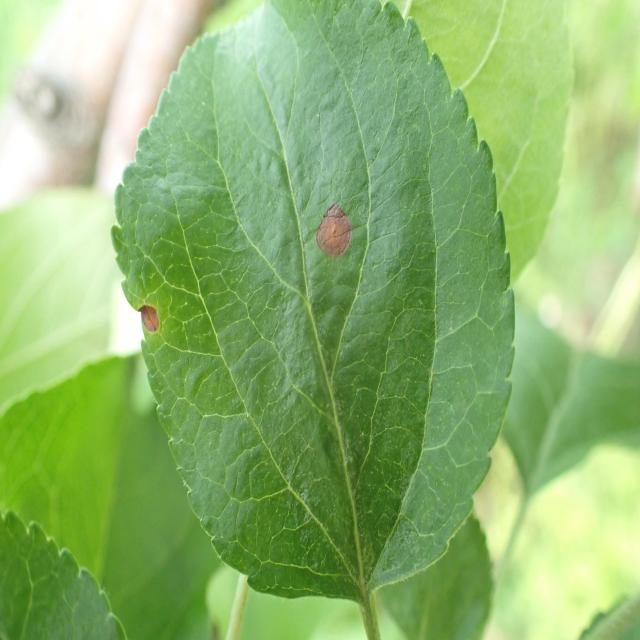Black Rot: (293, 188, 355, 268), (111, 294, 179, 338)
